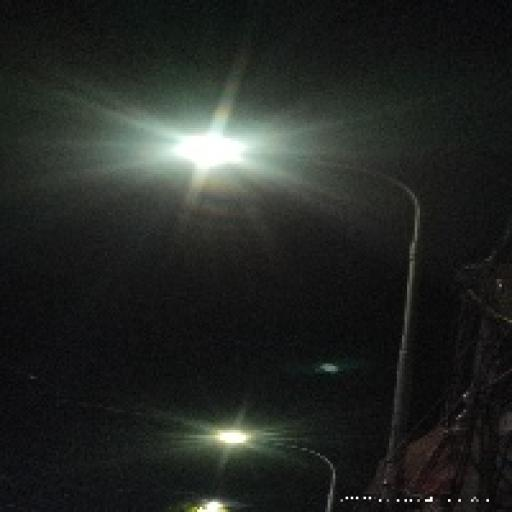Working: (168, 127, 258, 182), (205, 420, 255, 452)
